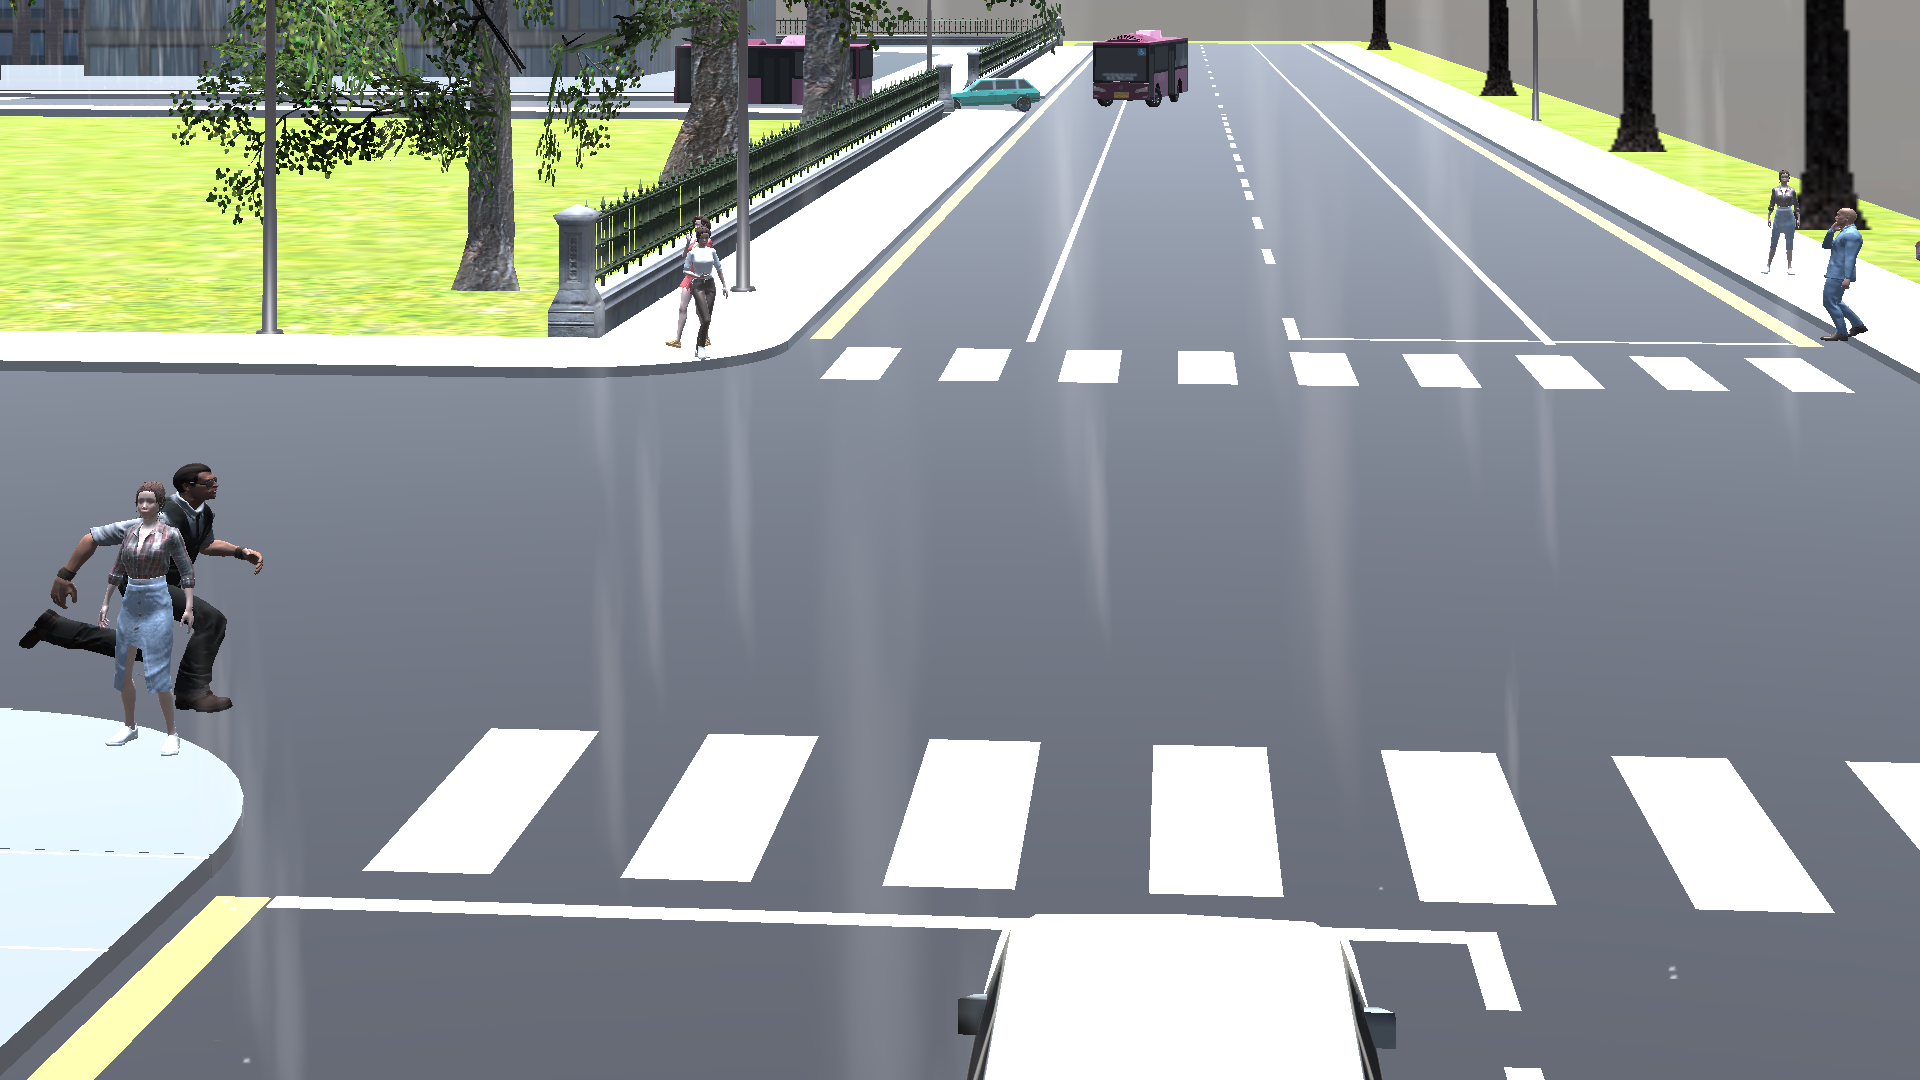pedestrian: (172, 459, 286, 768), (96, 478, 187, 767), (1825, 199, 1869, 359), (692, 231, 739, 359), (669, 186, 700, 351), (1762, 148, 1797, 284)
